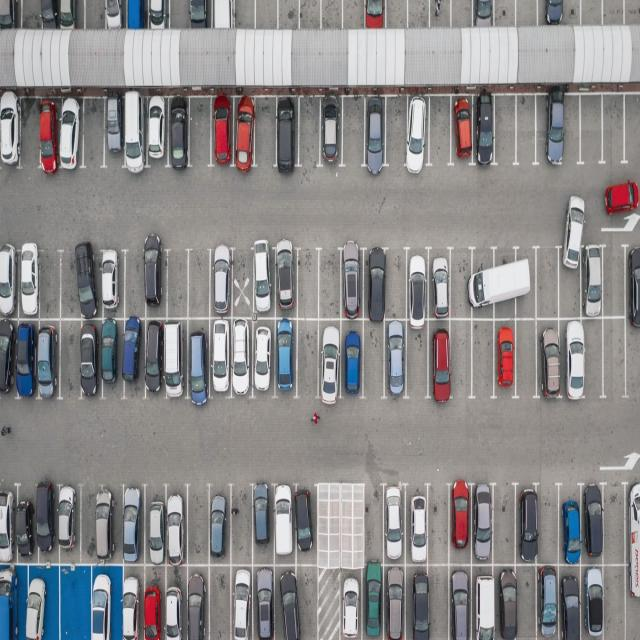space-empty: (58, 562, 94, 638), (206, 564, 235, 639), (603, 318, 629, 396), (512, 320, 538, 397), (293, 320, 319, 397), (423, 564, 450, 638), (448, 319, 473, 398), (404, 322, 430, 397), (471, 319, 496, 396), (600, 245, 626, 319), (254, 93, 280, 167), (292, 564, 318, 638), (426, 486, 450, 566), (425, 96, 452, 167), (361, 320, 386, 396), (361, 487, 384, 569), (492, 487, 516, 565), (341, 95, 367, 167), (558, 245, 584, 317), (59, 320, 83, 397), (185, 488, 209, 565), (228, 490, 252, 567), (188, 97, 214, 168), (228, 247, 253, 320), (604, 562, 628, 638), (298, 97, 324, 167), (82, 98, 108, 168), (582, 318, 605, 397), (492, 94, 517, 166), (603, 96, 628, 168), (383, 97, 408, 169), (293, 251, 319, 320), (448, 250, 474, 319), (381, 250, 406, 321), (534, 245, 558, 318), (538, 489, 561, 565), (515, 566, 539, 638), (316, 251, 341, 320), (603, 486, 625, 564), (166, 250, 191, 318), (20, 99, 43, 171), (515, 94, 538, 165), (580, 96, 603, 167), (186, 250, 210, 318), (38, 251, 61, 321), (61, 251, 85, 318), (124, 251, 148, 317), (80, 488, 101, 563), (319, 490, 337, 567), (625, 320, 640, 396), (624, 94, 640, 163), (319, 0, 343, 31), (342, 0, 366, 30), (298, 0, 322, 30), (406, 0, 431, 28), (384, 1, 408, 30), (255, 0, 278, 30), (85, 0, 107, 31), (169, 0, 191, 30), (277, 0, 299, 30), (450, 0, 474, 27), (515, 0, 538, 27), (234, 0, 256, 28), (21, 0, 42, 29), (493, 0, 515, 27), (581, 0, 603, 25), (601, 1, 624, 24), (624, 0, 640, 24)
space-occupied: (16, 563, 56, 640), (85, 562, 120, 638), (561, 318, 590, 398), (539, 94, 570, 166), (186, 319, 213, 399), (164, 320, 191, 399), (537, 320, 564, 398), (32, 319, 59, 397), (182, 564, 210, 639), (230, 565, 258, 640), (446, 483, 472, 563), (121, 484, 147, 564), (471, 564, 499, 638), (122, 318, 148, 397), (207, 319, 233, 398), (272, 318, 298, 396), (252, 319, 278, 397), (380, 483, 405, 564), (70, 249, 98, 321), (492, 319, 519, 393), (120, 564, 146, 640), (56, 484, 82, 560), (227, 319, 252, 398), (160, 567, 187, 640), (404, 250, 432, 320), (448, 564, 474, 639), (140, 564, 166, 639), (163, 486, 188, 564), (404, 97, 431, 169), (471, 246, 498, 318), (491, 246, 518, 318), (100, 250, 128, 319), (317, 316, 341, 396), (12, 319, 36, 399), (93, 487, 118, 563), (143, 96, 169, 169), (406, 484, 430, 563), (472, 483, 496, 562), (208, 248, 235, 318), (449, 96, 476, 166), (274, 563, 299, 638), (340, 317, 364, 395), (208, 486, 232, 564), (142, 486, 166, 564), (31, 482, 55, 560), (123, 96, 148, 170), (534, 566, 559, 640), (253, 564, 278, 638), (253, 484, 276, 564), (292, 487, 316, 563), (558, 562, 582, 638), (232, 98, 258, 168), (318, 97, 344, 167), (361, 250, 387, 320), (340, 570, 366, 640), (100, 316, 123, 395), (209, 96, 234, 168), (428, 322, 452, 397), (384, 321, 408, 396), (578, 246, 603, 318), (167, 98, 192, 170), (254, 243, 278, 317), (405, 564, 429, 638), (560, 490, 584, 563), (274, 97, 299, 167), (472, 98, 497, 168), (59, 98, 84, 168), (273, 485, 296, 561), (578, 562, 601, 638), (102, 489, 125, 565), (364, 97, 388, 169), (15, 248, 39, 320), (381, 563, 404, 638), (515, 489, 538, 564), (426, 252, 452, 318), (144, 319, 166, 397), (273, 246, 297, 317), (512, 247, 536, 318), (82, 319, 104, 396), (494, 567, 517, 640), (340, 250, 365, 317), (104, 98, 127, 168), (1, 564, 22, 640), (16, 484, 37, 560), (144, 250, 168, 316), (360, 568, 382, 640), (39, 97, 60, 171), (0, 95, 21, 169), (82, 248, 104, 317), (584, 488, 604, 563), (0, 245, 19, 317), (0, 489, 17, 567), (625, 482, 640, 563), (625, 560, 640, 636), (0, 319, 14, 396), (540, 0, 579, 25), (627, 244, 640, 318), (126, 0, 150, 31), (361, 0, 386, 29), (147, 0, 171, 30), (210, 0, 234, 30), (188, 0, 212, 29), (57, 0, 81, 29), (104, 0, 126, 30), (473, 0, 497, 27), (428, 0, 452, 27), (0, 0, 20, 30), (39, 0, 58, 29), (69, 0, 86, 30)
